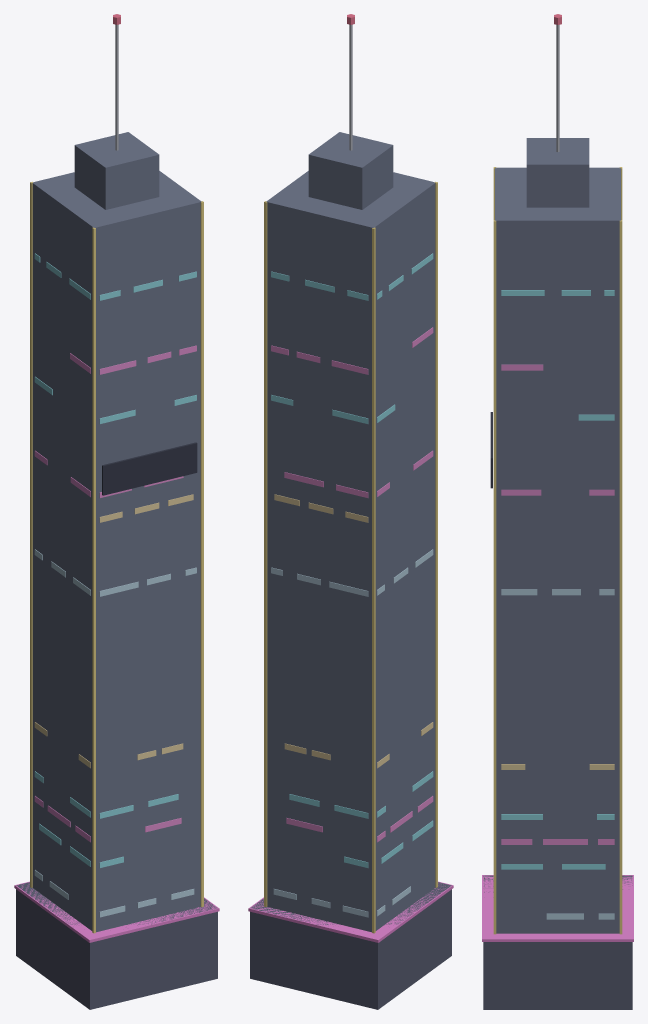
File: c_turm_c.glb
3 views of the same model, side by side, from view 1: azimuth 30°, elevation 25°; view 2: azimuth 150°, elevation 25°; view 3: azimuth 270°, elevation 25° (orthographic).
Visible parts, largest first — view 1: koerper, leuchten; view 2: koerper, leuchten; view 3: koerper, leuchten.
Part boxes in pixels (left/top/right/bottom): koerper: left=16, top=24, right=217, bottom=1009; leuchten: left=14, top=14, right=219, bottom=942; koerper: left=250, top=24, right=451, bottom=1009; leuchten: left=248, top=14, right=453, bottom=942; koerper: left=483, top=25, right=632, bottom=1009; leuchten: left=482, top=14, right=633, bottom=941.
Size of the model in its own units: 19.3 by 135 by 19.3.
